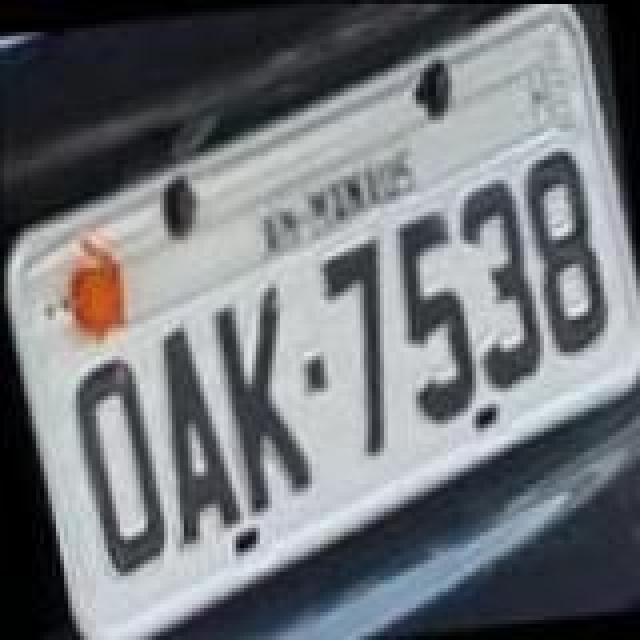3: (450, 174, 546, 390)
5: (390, 204, 478, 428)
7: (318, 234, 406, 458)
8: (520, 140, 616, 356)
A: (150, 324, 242, 548)
K: (208, 284, 312, 516)
O: (64, 352, 168, 584)
